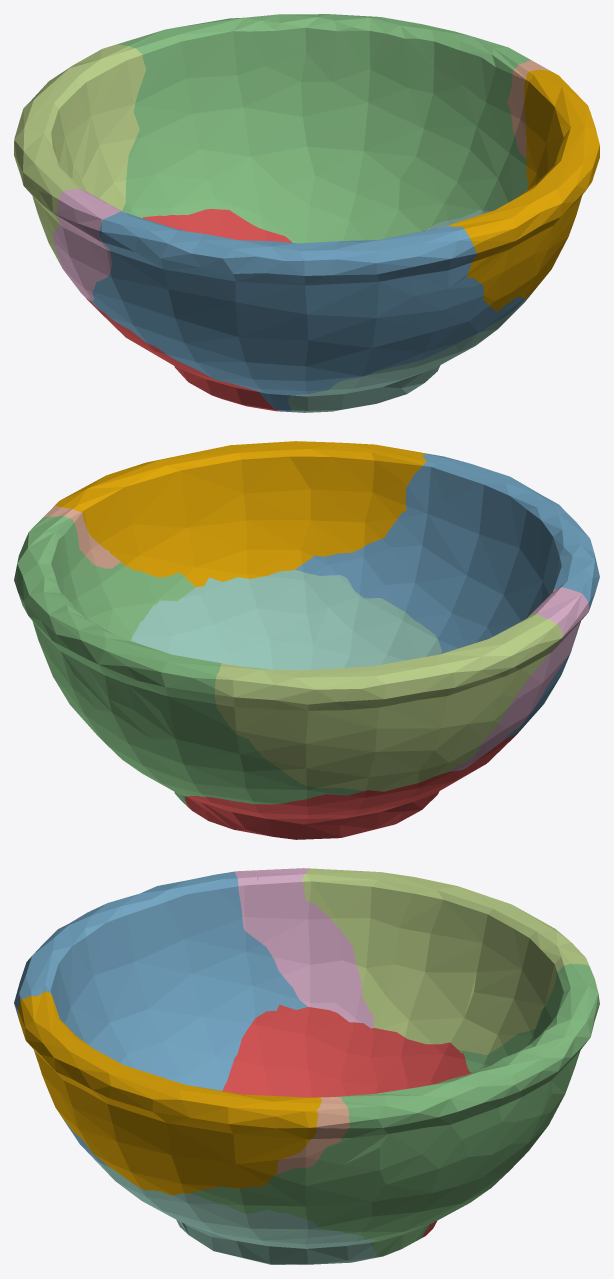
The model's file is mode_9_8pcs.glb.
The picture shows the model from 3 angles, top to bottom: view 1: azimuth 30°, elevation 25°; view 2: azimuth 150°, elevation 25°; view 3: azimuth 270°, elevation 25°; orthographic projection.
Visible parts, largest first — view 1: piece_3.obj, piece_2.obj, piece_0.obj, piece_5.obj, piece_4.obj, piece_6.obj, piece_1.obj, piece_7.obj; view 2: piece_0.obj, piece_3.obj, piece_5.obj, piece_2.obj, piece_4.obj, piece_1.obj, piece_6.obj, piece_7.obj; view 3: piece_3.obj, piece_2.obj, piece_5.obj, piece_0.obj, piece_1.obj, piece_6.obj, piece_4.obj, piece_7.obj.
Part boxes in pixels (x1,y1,x2,y2): piece_3.obj: (118,14,530,243); piece_2.obj: (88,211,523,411); piece_0.obj: (448,69,599,312); piece_5.obj: (14,44,145,261); piece_4.obj: (288,210,532,412); piece_6.obj: (53,189,126,300); piece_1.obj: (86,209,292,411); piece_7.obj: (507,60,550,158); piece_0.obj: (55,441,428,587); piece_3.obj: (14,516,364,806); piece_5.obj: (214,613,563,791); piece_2.obj: (295,454,599,739); piece_4.obj: (131,570,441,670); piece_1.obj: (185,725,524,839); piece_6.obj: (451,587,589,771); piece_7.obj: (43,505,120,568); piece_3.obj: (192,963,599,1257); piece_2.obj: (14,871,307,1166); piece_5.obj: (302,868,589,1054); piece_0.obj: (17,991,321,1195); piece_1.obj: (222,1004,471,1237); piece_6.obj: (235,868,374,1028); piece_4.obj: (85,1149,377,1264); piece_7.obj: (275,1096,349,1174).
Size of the model in its own units: 1 by 0.4247 by 0.9975.
